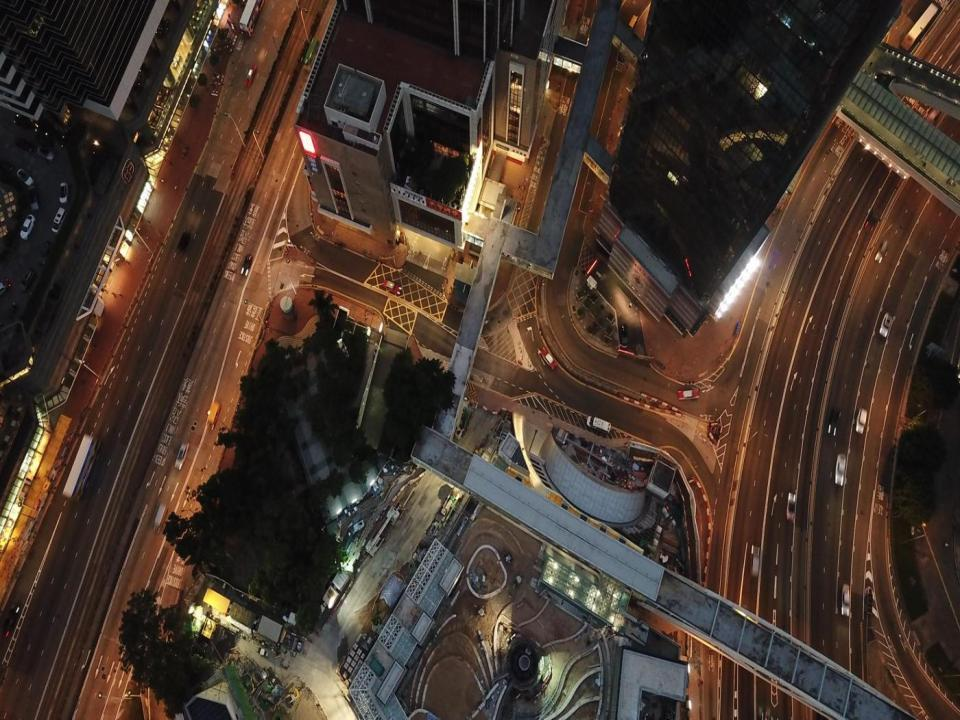bus: (61, 435, 98, 501), (901, 3, 939, 50), (239, 0, 265, 37)
car: (1, 606, 18, 638), (539, 348, 557, 369), (175, 441, 188, 470), (21, 214, 35, 240), (835, 453, 846, 485), (618, 322, 630, 350), (879, 313, 892, 338), (875, 240, 889, 263), (828, 407, 839, 436), (865, 207, 878, 231), (244, 65, 258, 86), (17, 169, 34, 186), (841, 584, 850, 616), (678, 388, 700, 401), (382, 280, 402, 294), (240, 254, 253, 275), (38, 242, 50, 264), (18, 137, 36, 151), (786, 492, 795, 520), (178, 232, 191, 251), (37, 146, 54, 160), (1, 161, 16, 176), (29, 190, 39, 212), (60, 182, 68, 204), (628, 16, 638, 28)
truck: (304, 37, 319, 65)
van: (51, 206, 66, 233), (586, 416, 611, 432), (154, 504, 168, 532), (750, 544, 760, 576), (20, 270, 35, 290), (856, 408, 867, 434)
